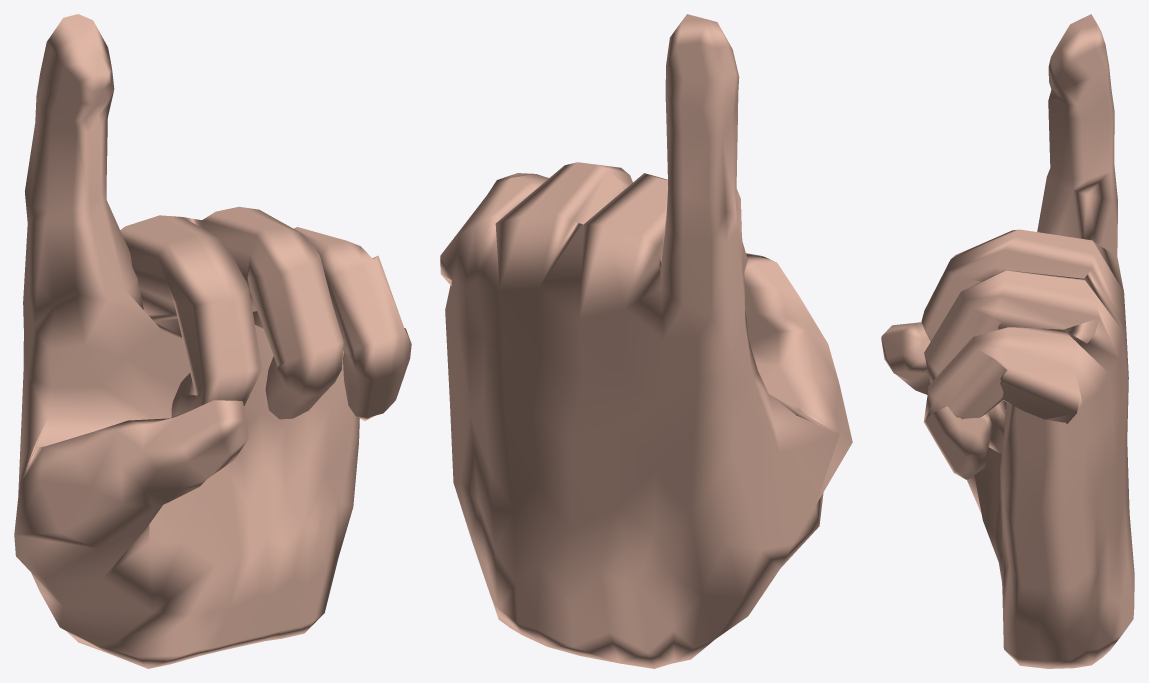
The model's file is INDICADOR.obj.
3 renders of one model, left to right at view 1: azimuth 30°, elevation 25°; view 2: azimuth 150°, elevation 25°; view 3: azimuth 270°, elevation 25°, orthographic. The views are drawn at different scales.
Visible parts, largest first — view 1: mao_dir polySurface1; view 2: mao_dir polySurface1; view 3: mao_dir polySurface1.
Boxes of the visible parts, x1,y1,x2,y2 form: mao_dir polySurface1: (14,14,411,668); mao_dir polySurface1: (440,14,852,668); mao_dir polySurface1: (881,14,1134,668).
Bounding box in the file's own units: 133 × 227 × 92.29.
